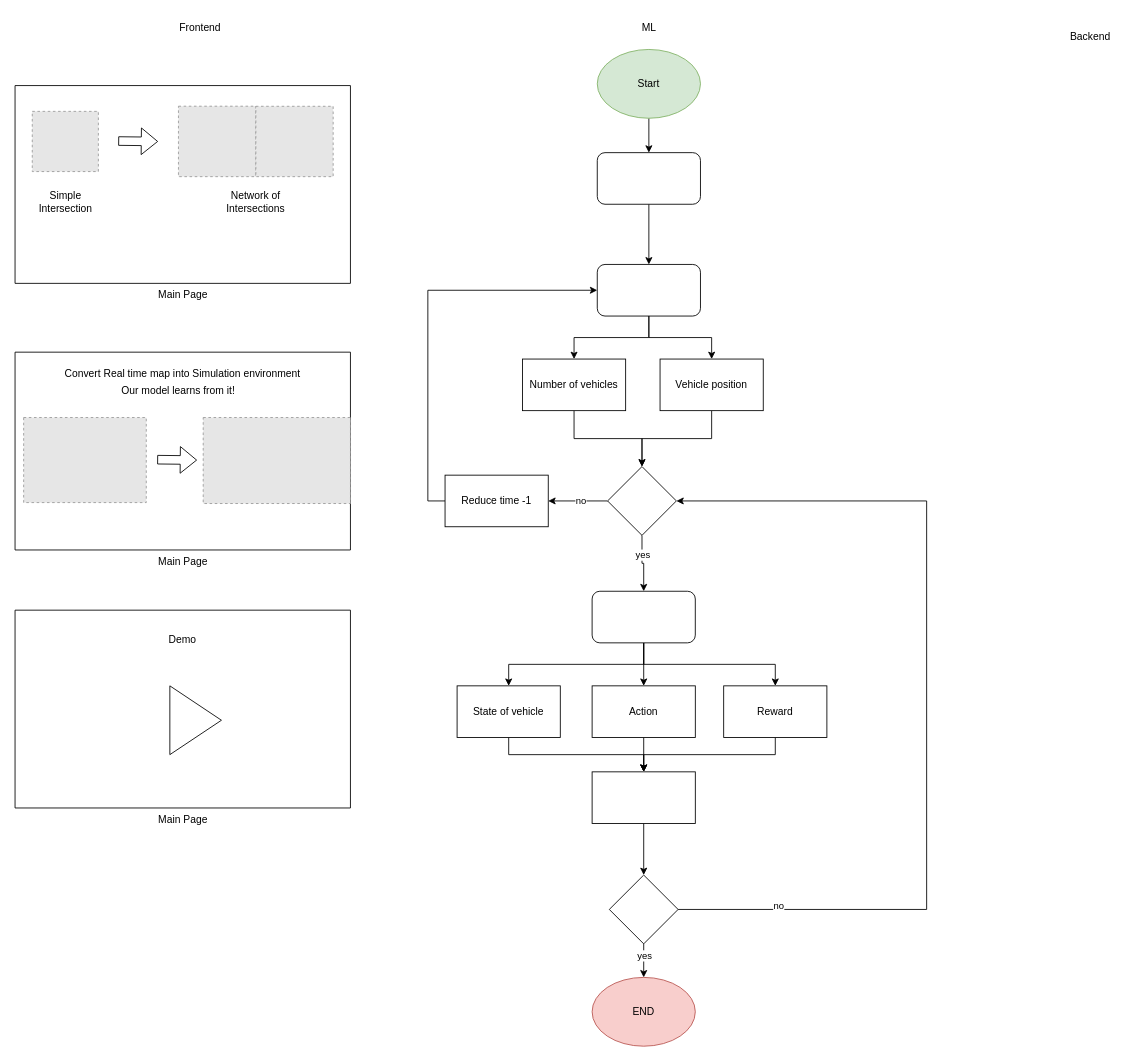
This 1135x1061 diagram has some shape labels left out. Grey dashed boxes stand in for pictures. Each missing label, with the centre of its shape:
+50% vehicle pass?: (x=641, y=500)
End of simulation?: (x=643, y=909)
Open Street Map data: (x=648, y=178)
Q-learning algorithm: (x=643, y=616)
Sumo simulation: (x=648, y=290)
Train: (x=643, y=797)
